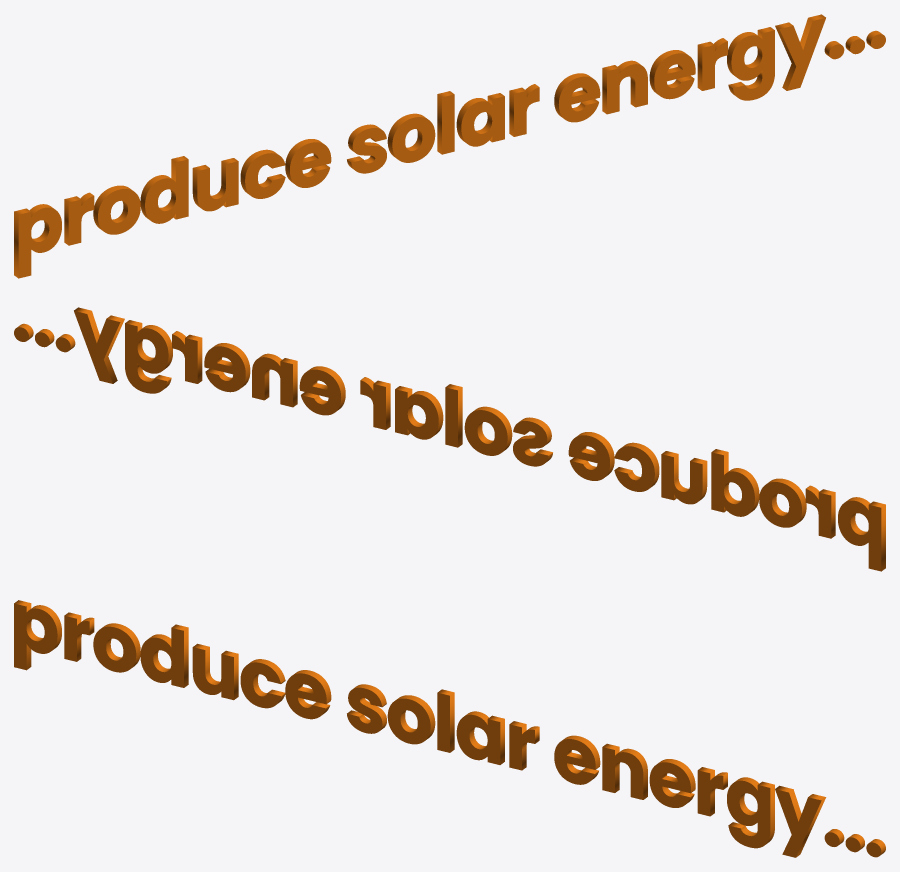
The model's file is yazi4.gltf.
3 views of the same model, one above another, from view 1: azimuth 30°, elevation 25°; view 2: azimuth 150°, elevation 25°; view 3: azimuth 330°, elevation 25° (orthographic).
Visible parts, largest first — view 1: Text.064; view 2: Text.064; view 3: Text.064.
Boxes of the visible parts, bbox=[...] form: Text.064: bbox=[14, 14, 885, 278]; Text.064: bbox=[14, 307, 885, 571]; Text.064: bbox=[14, 600, 885, 857].
Size of the model in its own units: 0.474 by 0.041 by 0.00435.
